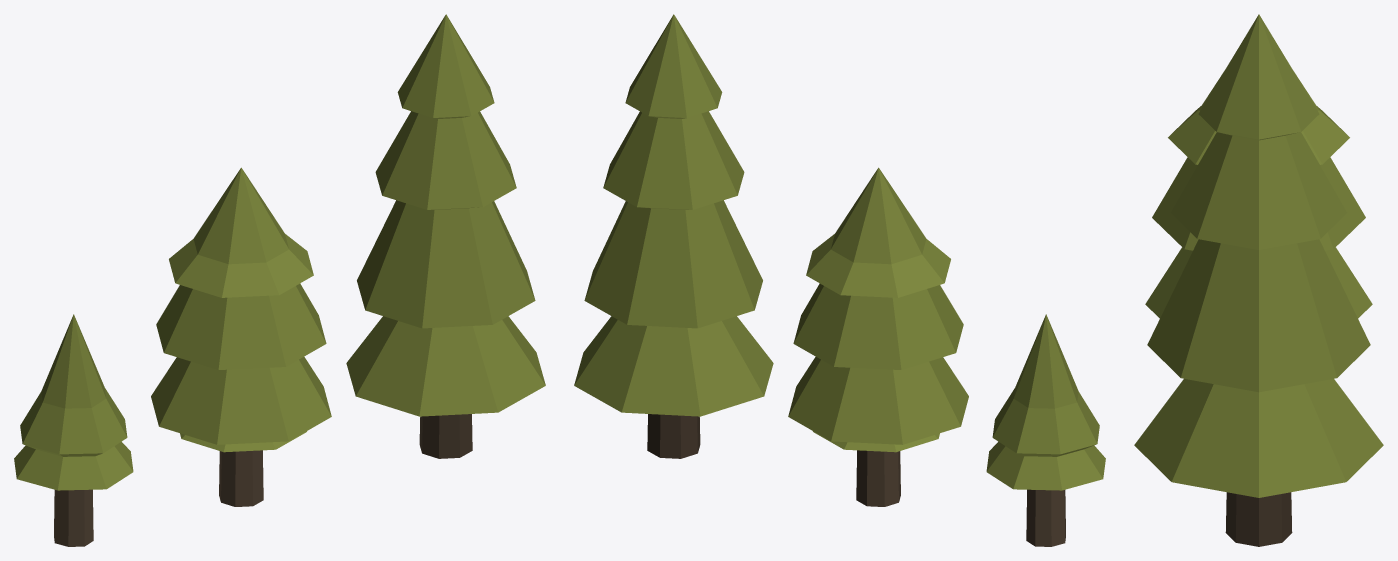
The model's file is trees.fbx.
3 renders of one model, left to right at view 1: azimuth 30°, elevation 25°; view 2: azimuth 150°, elevation 25°; view 3: azimuth 270°, elevation 25°, orthographic. The views are drawn at different scales.
Parts seen in each view (by area): view 1: Adv_Tree_03, Adv_Tree_02, Adv_Tree_01; view 2: Adv_Tree_03, Adv_Tree_02, Adv_Tree_01; view 3: Adv_Tree_03, Adv_Tree_02.
Boxes of the visible parts, bbox=[...] form: Adv_Tree_03: bbox=[346, 14, 545, 458]; Adv_Tree_02: bbox=[151, 167, 331, 506]; Adv_Tree_01: bbox=[14, 314, 133, 546]; Adv_Tree_03: bbox=[574, 14, 773, 458]; Adv_Tree_02: bbox=[788, 167, 968, 506]; Adv_Tree_01: bbox=[986, 314, 1105, 546]; Adv_Tree_03: bbox=[1134, 14, 1383, 546]; Adv_Tree_02: bbox=[1145, 72, 1372, 318].
Size of the model in its own units: 698 by 557 by 243.
